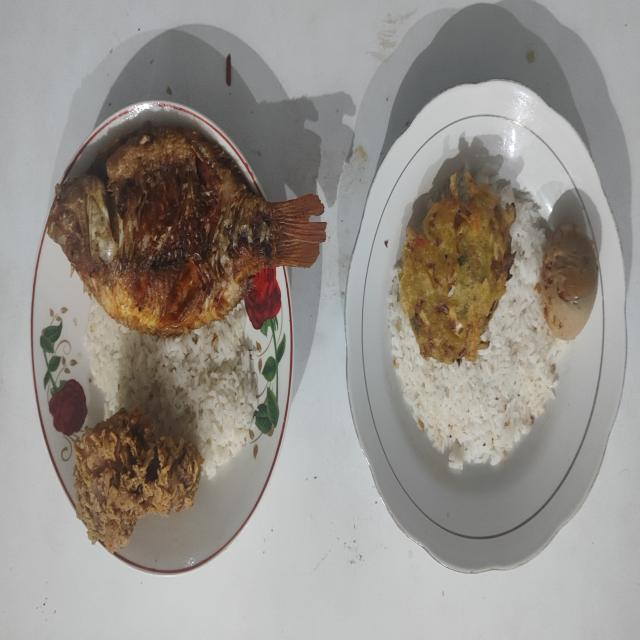ikan_mujair: (47, 127, 326, 336)
nasi_putih: (388, 200, 563, 470), (84, 301, 259, 478)
